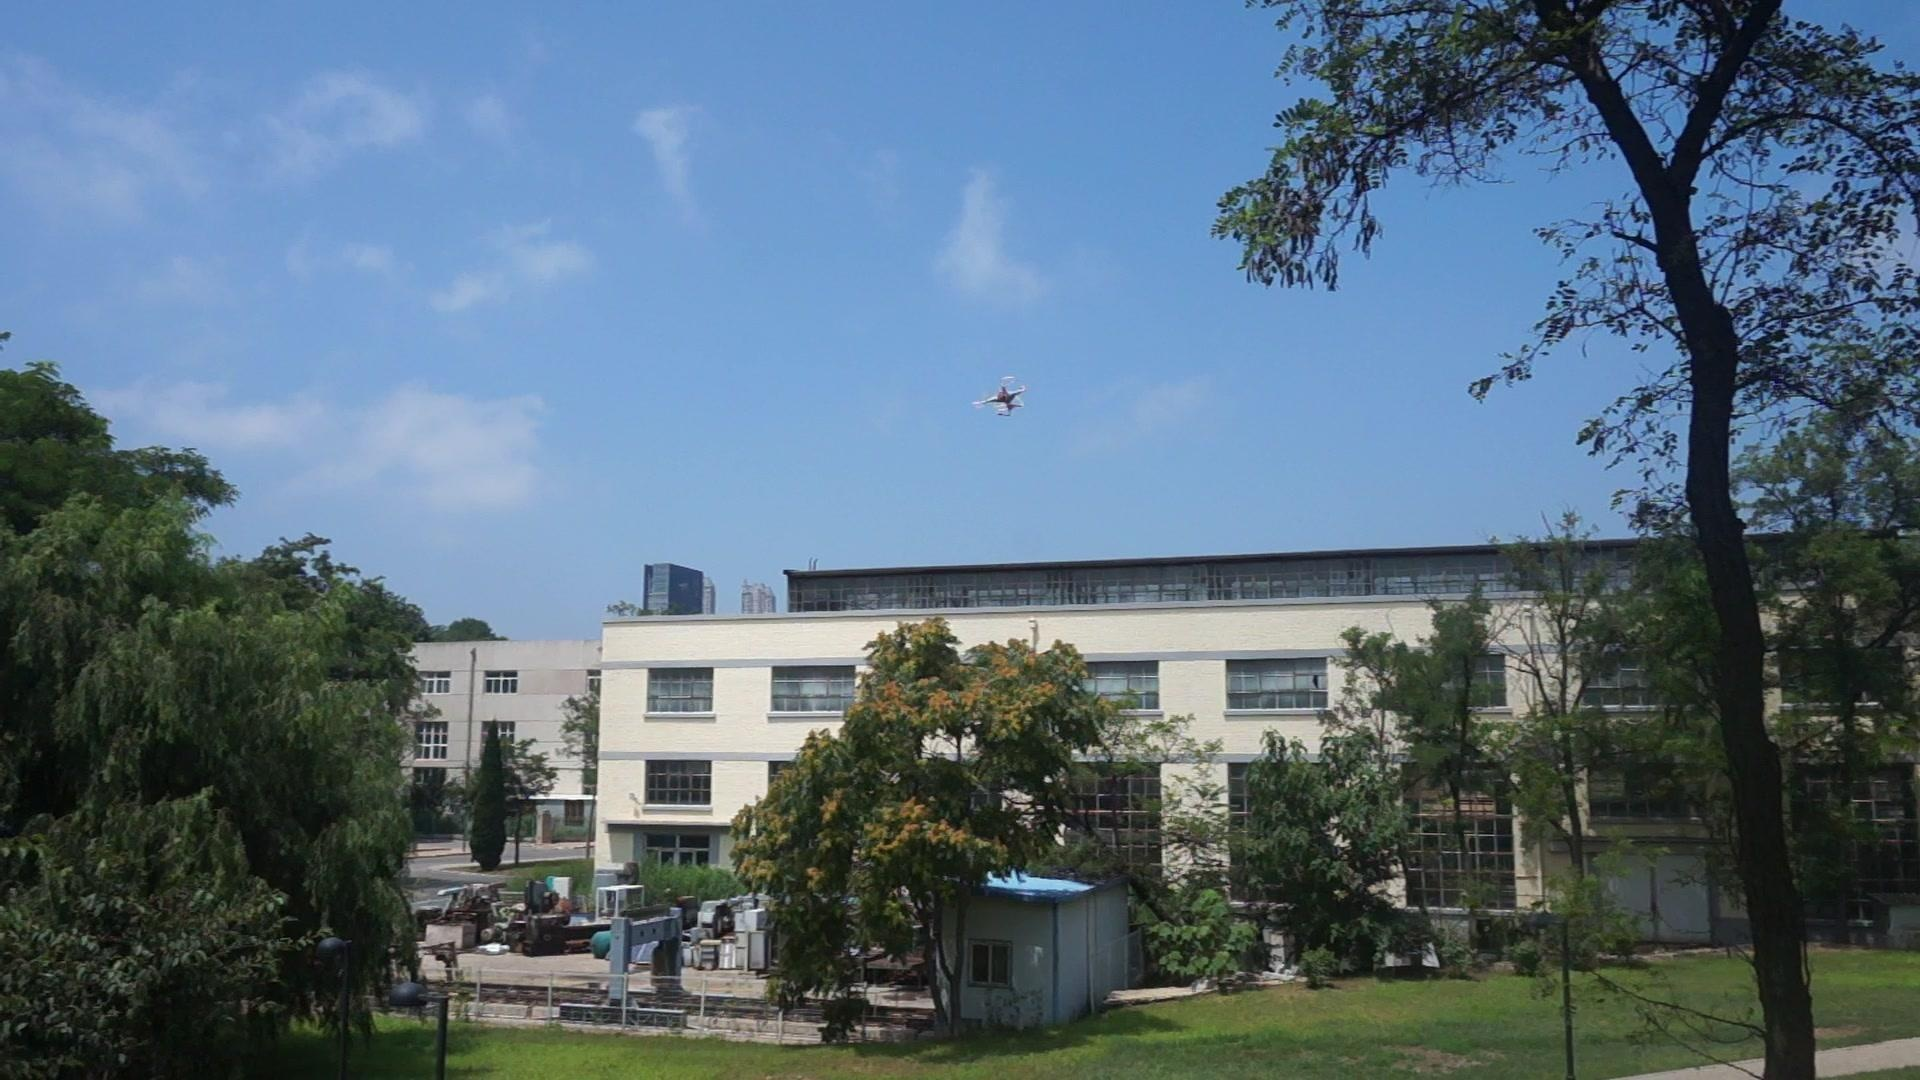UAV: (972, 376, 1031, 417)
